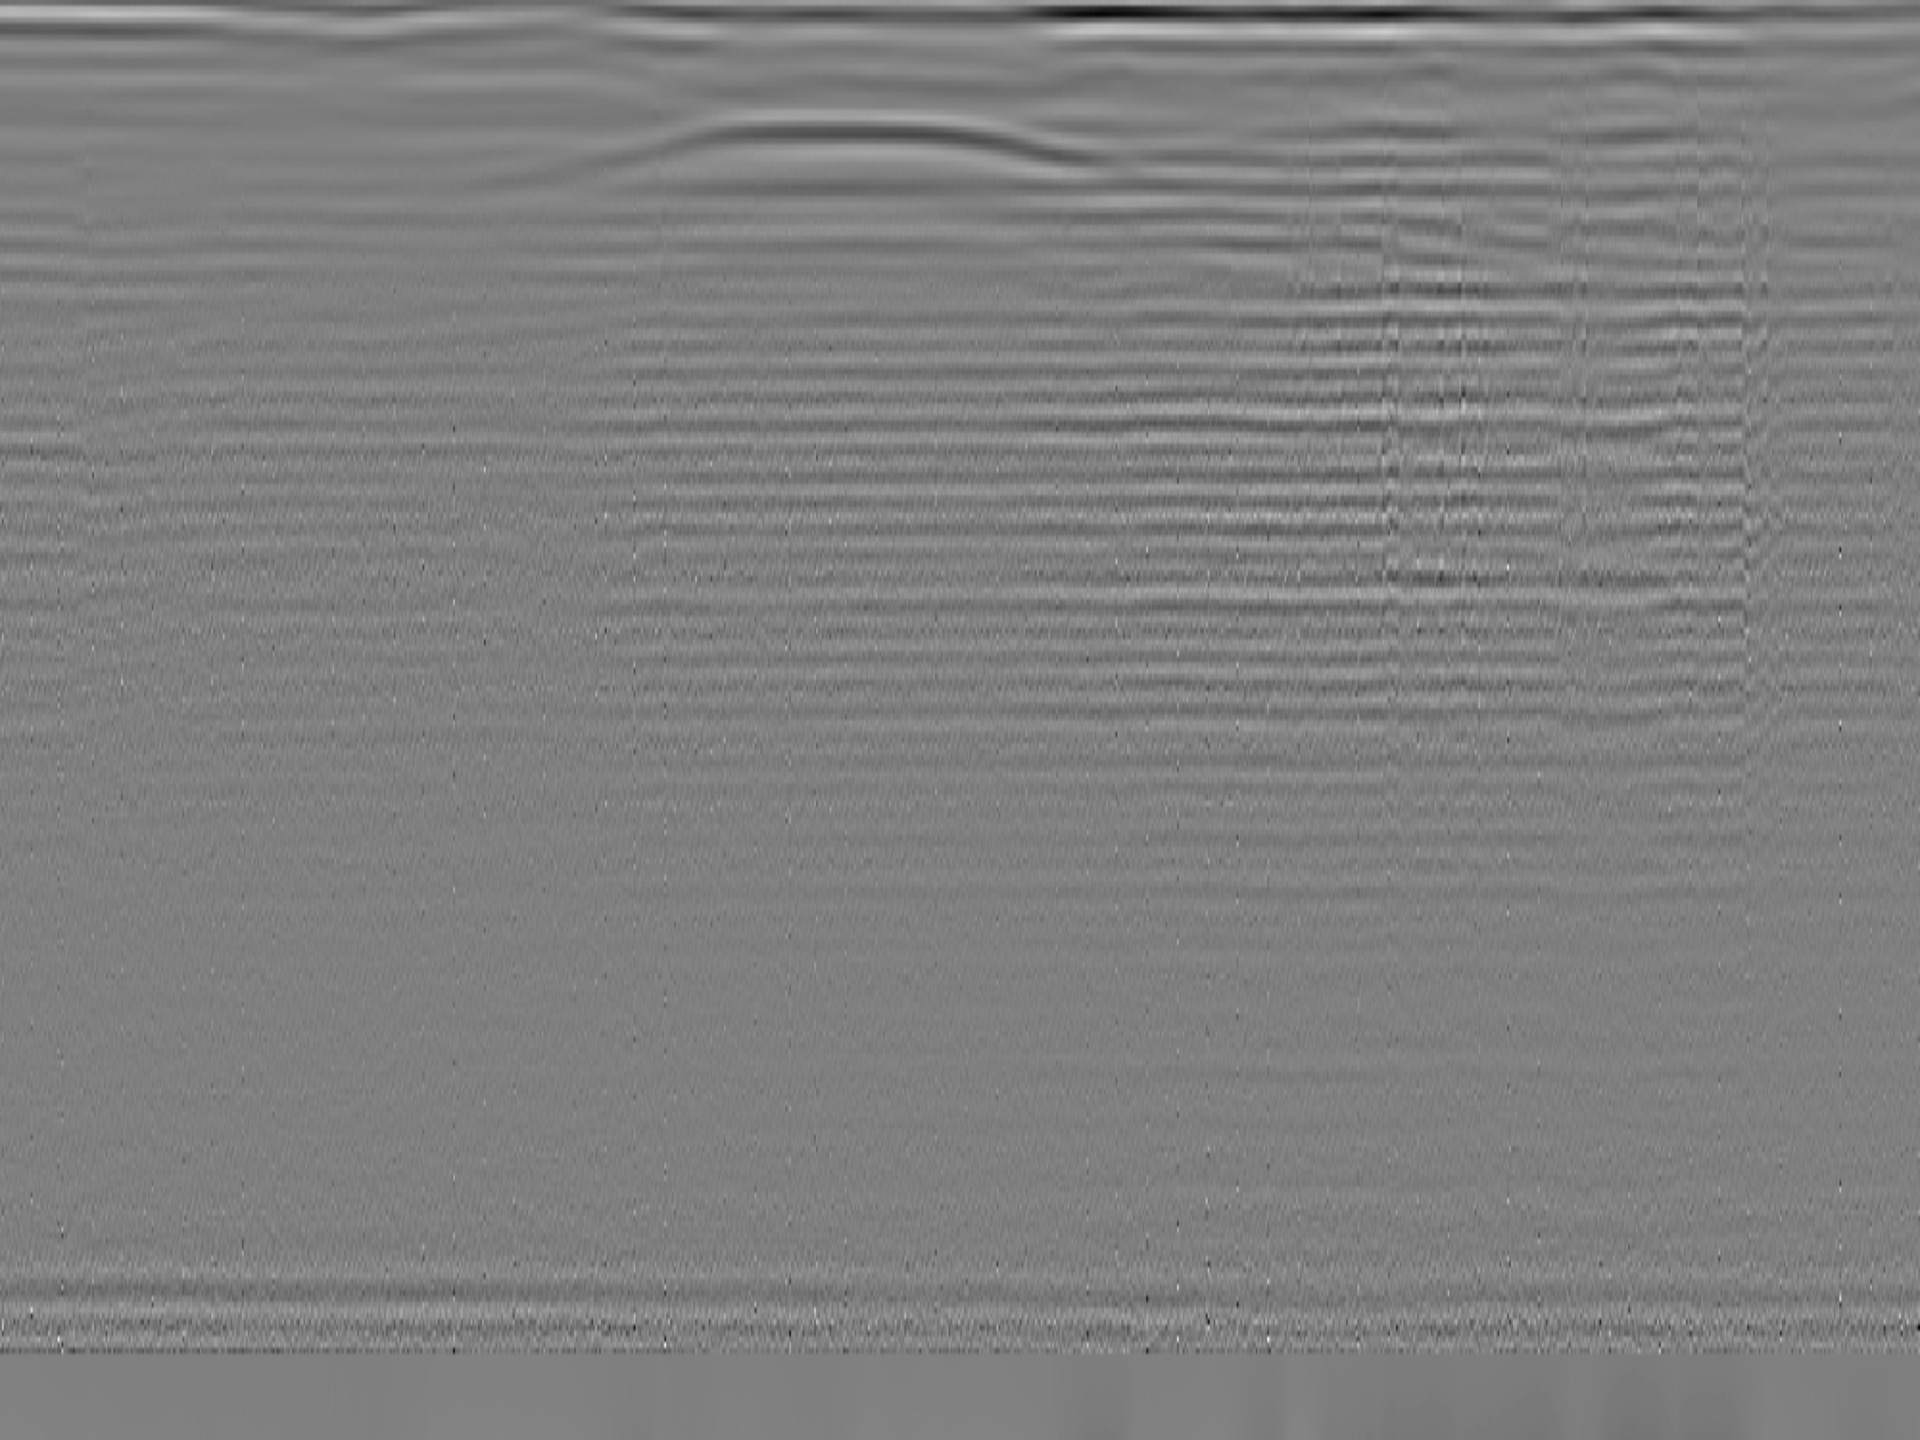Tunnel: (508, 109, 1128, 191)
